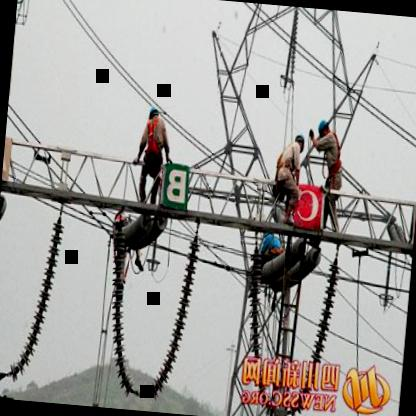helmet: (290, 127, 308, 156), (316, 116, 332, 142), (145, 103, 162, 126)
